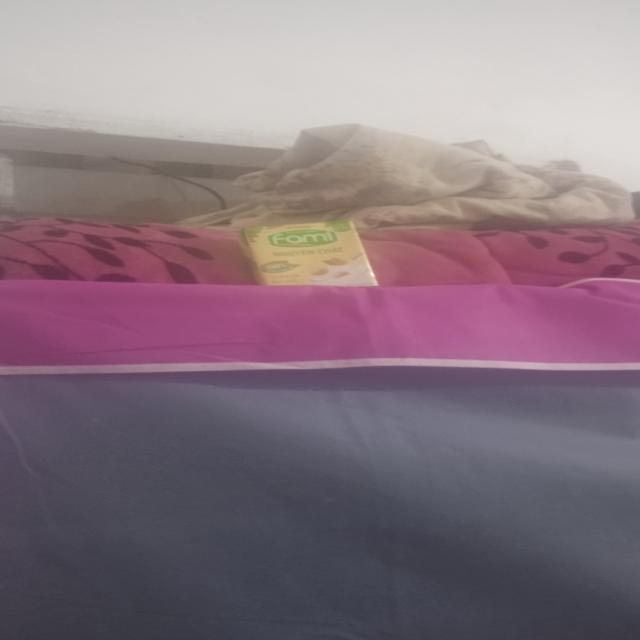Fami: (245, 219, 380, 288)
